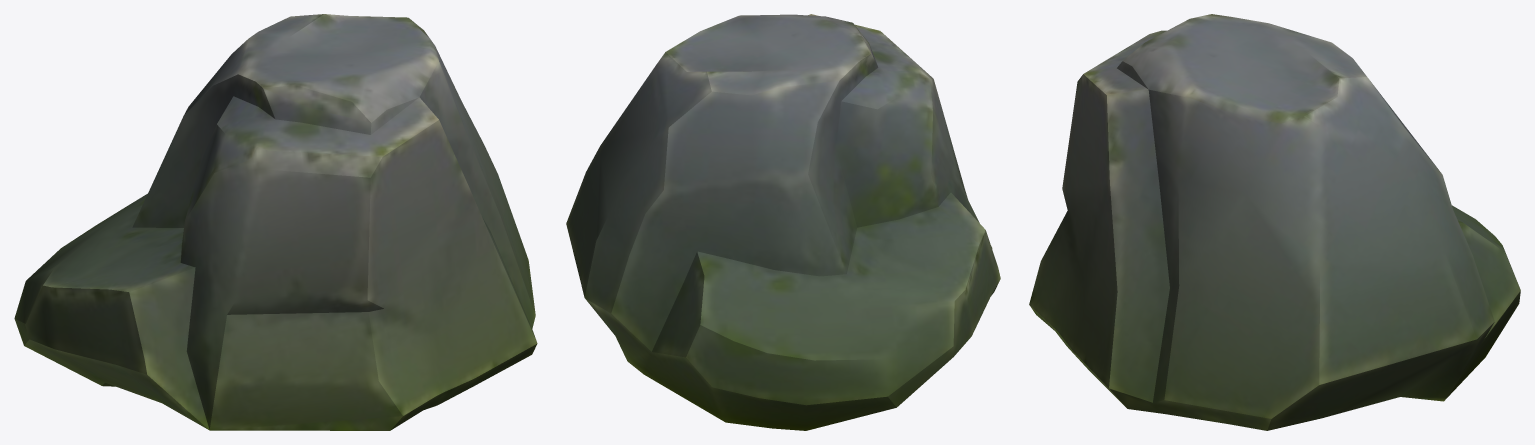
The model's file is Rock_Medium_1.gltf.
The picture shows the model from 3 angles, left to right: view 1: azimuth 30°, elevation 25°; view 2: azimuth 150°, elevation 25°; view 3: azimuth 270°, elevation 25°; orthographic projection. The views are drawn at different scales.
Visible parts, largest first — view 1: Rock_Medium_1; view 2: Rock_Medium_1; view 3: Rock_Medium_1.
Part boxes in pixels (left/top/right/bottom): Rock_Medium_1: left=14, top=14, right=537, bottom=430; Rock_Medium_1: left=566, top=14, right=1000, bottom=430; Rock_Medium_1: left=1029, top=14, right=1520, bottom=430.
Bounding box in the file's own units: 3.23 × 2.26 × 2.99.
Materials: 1 (1 with a texture image).
